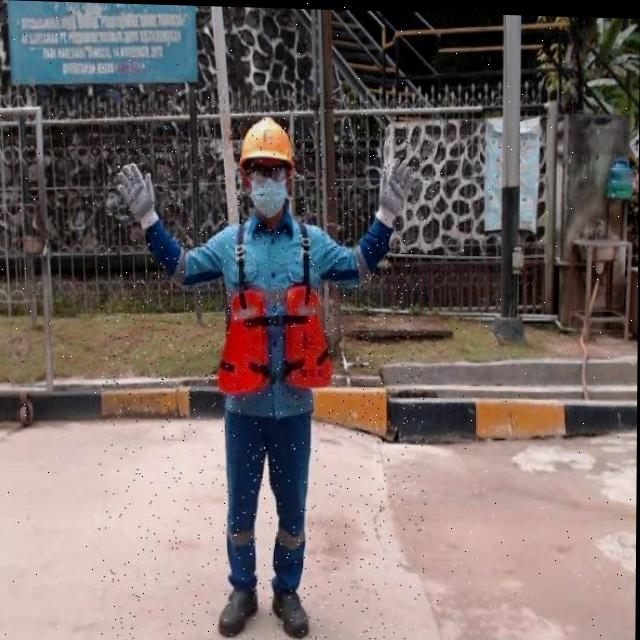Gloves: (116, 161, 159, 229), (376, 158, 413, 224)
Helmet: (237, 113, 297, 169)
Safety-Boot: (218, 585, 258, 635), (272, 586, 310, 637)
Safety-Vest: (216, 209, 334, 396)
